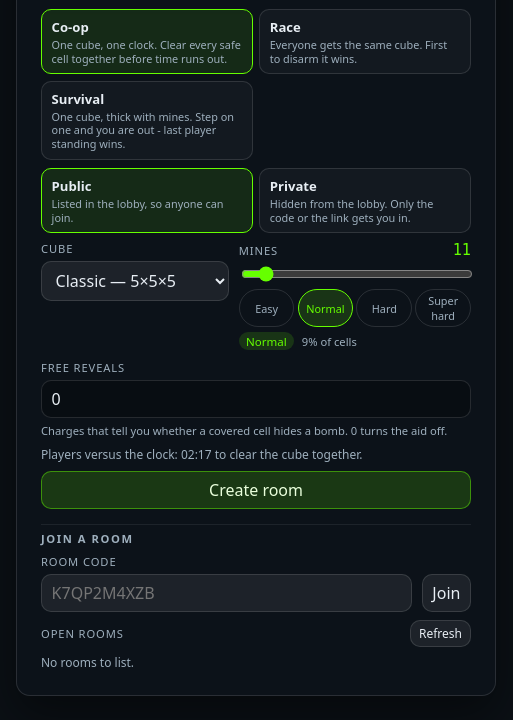
WelcomeScreen › surfaces a failed join and stays on the screen
The width and height of the screenshot is (513, 720).
(page scrolled)
Type "ROOM01" into the field with test id "welcome-code" at (227, 593), box top-left (41, 574), bottom-right (412, 612)
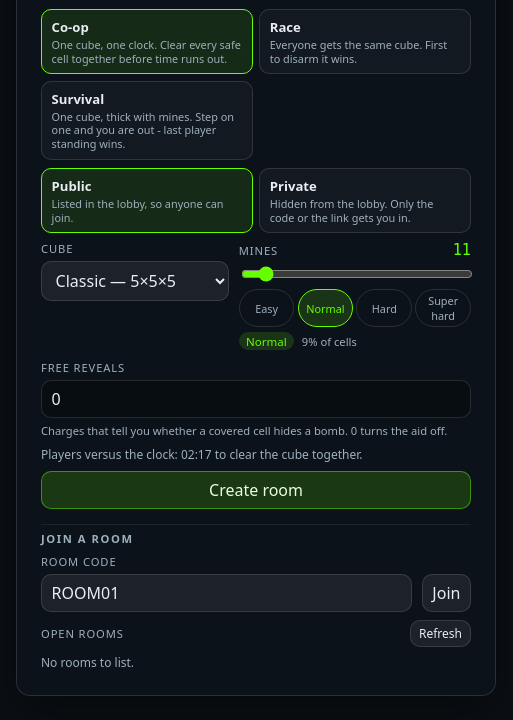
Click the button with test id "welcome-join" at (446, 593), box top-left (422, 574), bottom-right (471, 612)
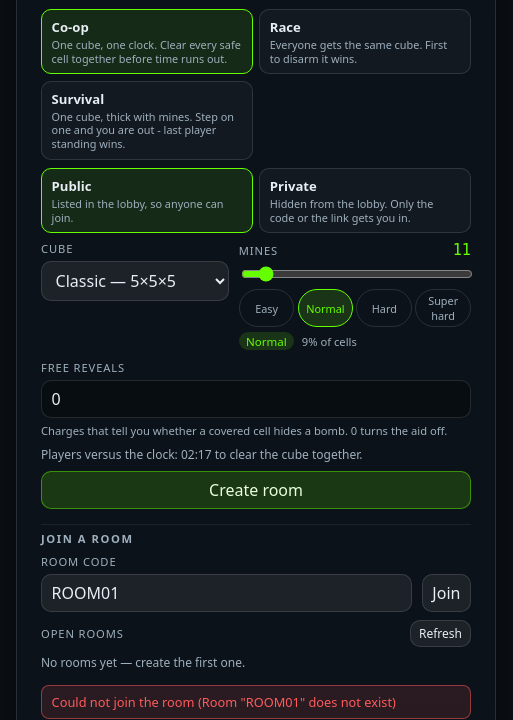
Expected: the button with test id "welcome-create" is enabled, top-left (41, 471), bottom-right (471, 509)
Now the message "Could not join the room (Room \"ROOM01\" does not exist)" is shown, box top-left (41, 685), bottom-right (471, 719)
